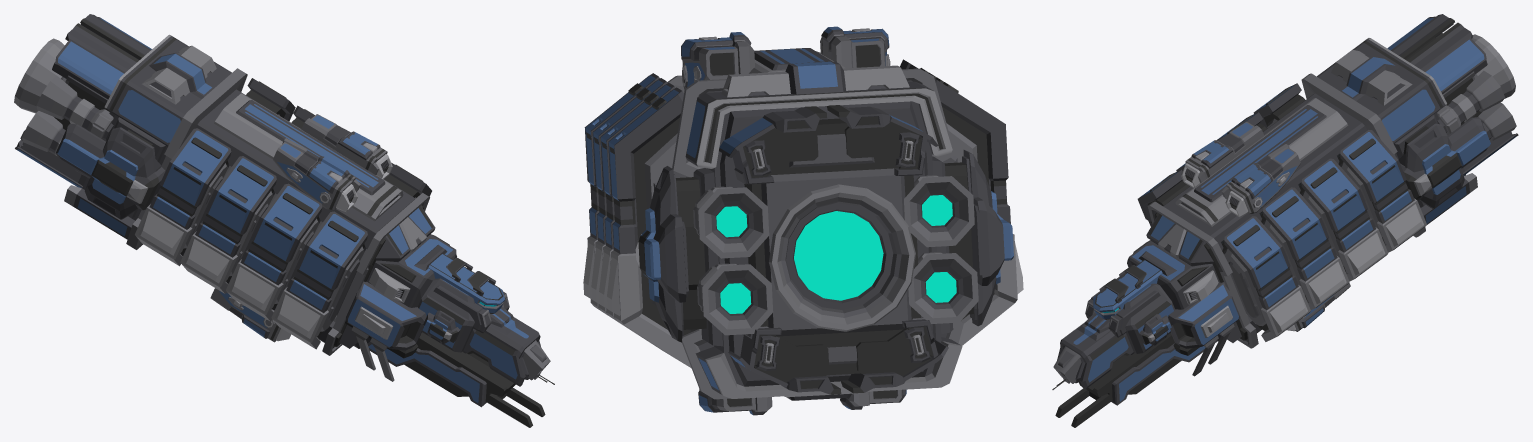
The model's file is ship.glb.
The picture shows the model from 3 angles, left to right: view 1: azimuth 30°, elevation 25°; view 2: azimuth 150°, elevation 25°; view 3: azimuth 270°, elevation 25°; orthographic projection. The views are drawn at different scales.
Parts seen in each view (by area): view 1: SM_Ship_Transport_CargoPod_08; view 2: SM_Ship_Transport_CargoPod_08; view 3: SM_Ship_Transport_CargoPod_08.
Part boxes in pixels (bbox=[...]): SM_Ship_Transport_CargoPod_08: bbox=[14, 14, 554, 427]; SM_Ship_Transport_CargoPod_08: bbox=[583, 26, 1023, 415]; SM_Ship_Transport_CargoPod_08: bbox=[1052, 14, 1518, 427].
Size of the model in its own units: 8.52 by 7.53 by 11.06.
Materials: 1 (1 with a texture image).
